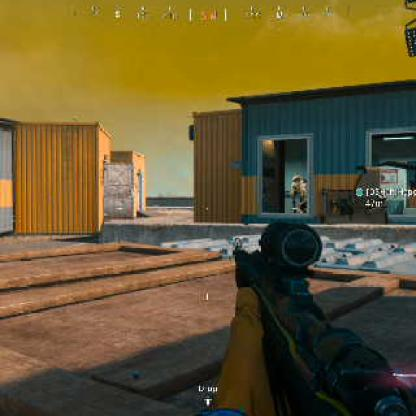enemy: (290, 176, 309, 213)
